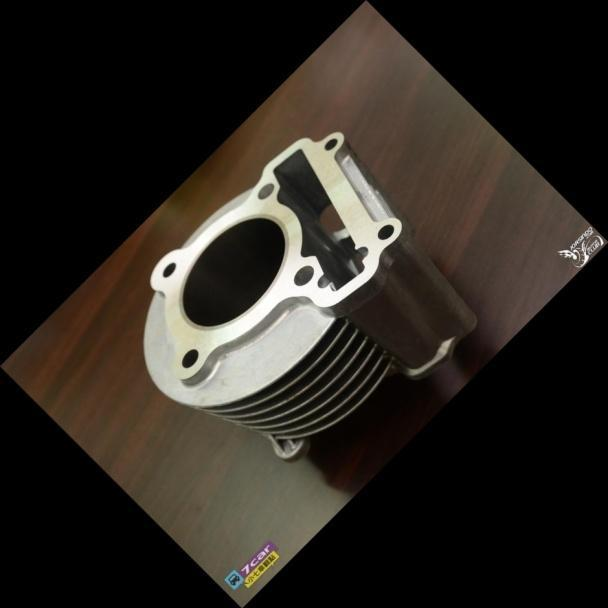hole: (284, 257, 320, 292), (173, 342, 205, 374), (156, 255, 183, 282), (252, 178, 279, 204)
